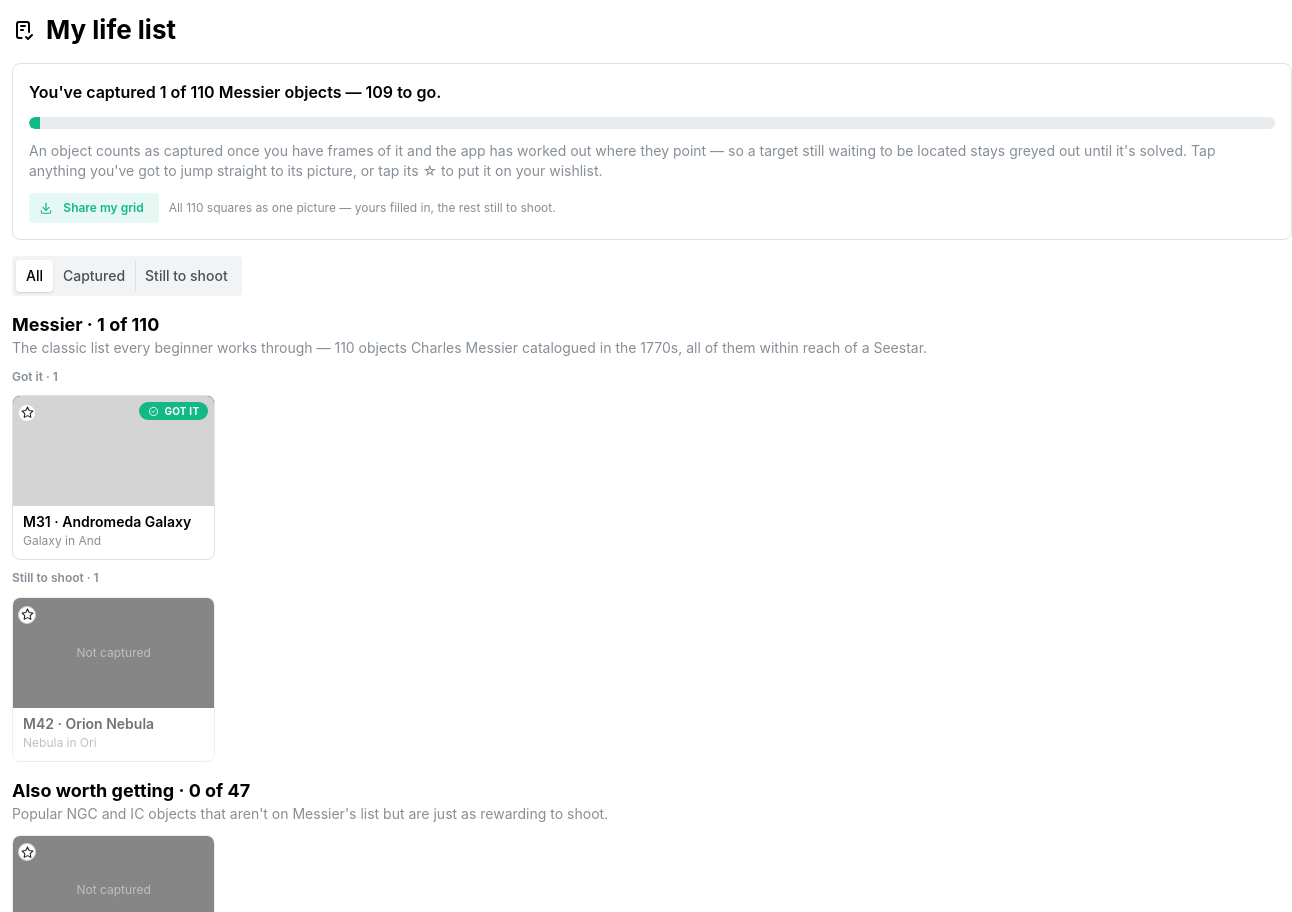
LifeListView › filters down to the collection
expect the text "M42 · Orion Nebula" is shown: met, box x1=23 y1=715 x2=154 y2=732
Click the text "Captured" at (94, 276), box x1=63 y1=268 x2=125 y2=284
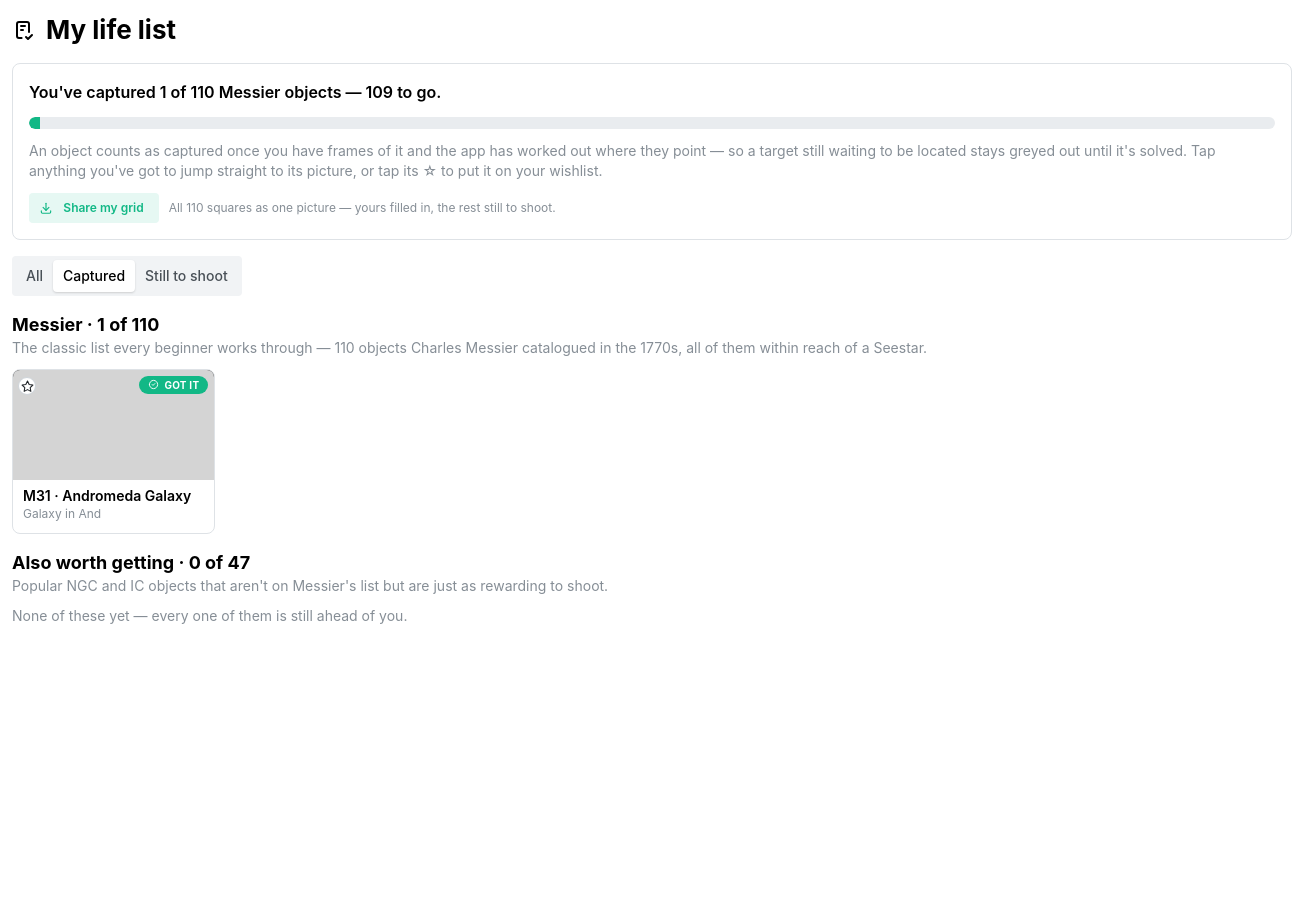
expect the text "M31 · Andromeda Galaxy" is shown: met, box x1=23 y1=486 x2=204 y2=506
expect the button "M42 · Orion Nebula" is gone: met
expect the text "None of these yet — every one of them is still ahead of you." is shown: met, box x1=12 y1=607 x2=407 y2=624
